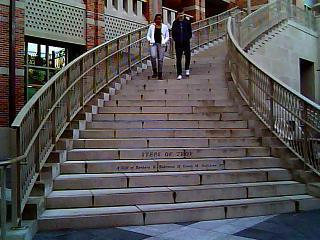Escaleras: (44, 54, 230, 224), (180, 17, 274, 53)
